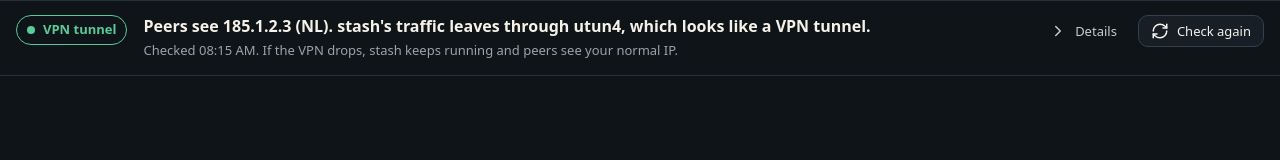
Test: NetworkPanel › a stale report hides the verdict and the details
Later steps or results of the test are not shown.
Step 1. Click the button "Details" → click(1083, 31), box [1036,15,1130,47]
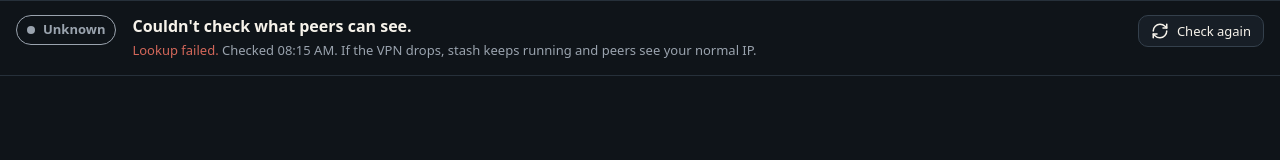
Check: no headings "looks like a VPN tunnel" are shown
Check: the button "Details" is gone
Check: the heading reads "Couldn't check what peers can see.", box [132,15,412,37]
